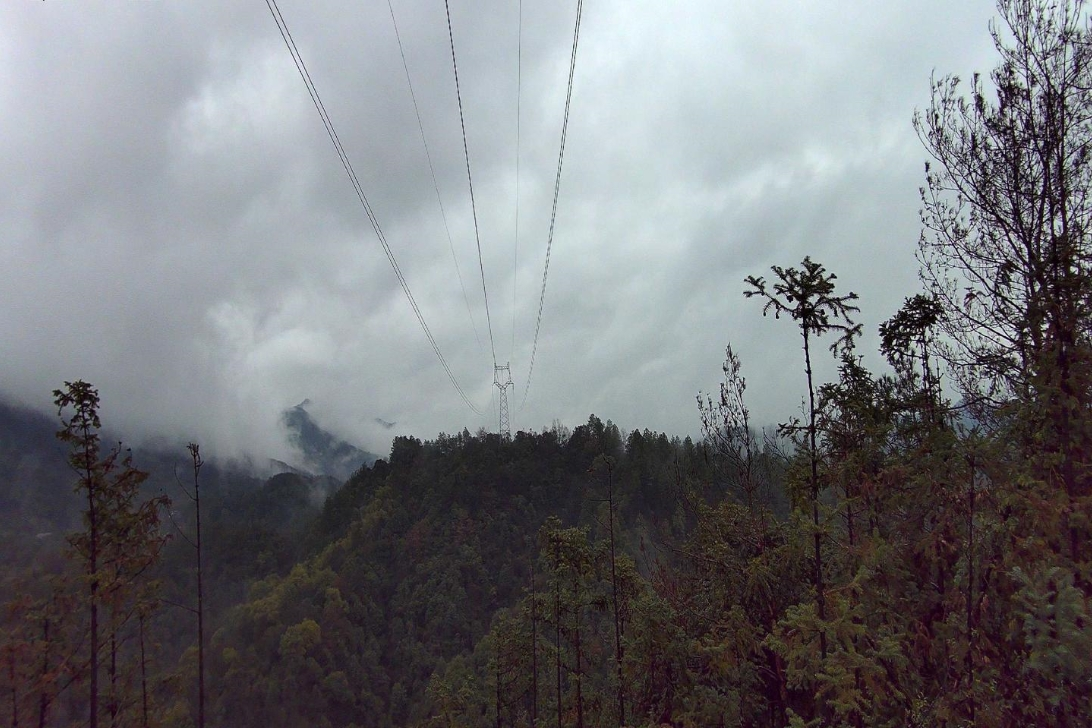山间云雾: (0, 329, 378, 514), (697, 368, 1001, 460)
